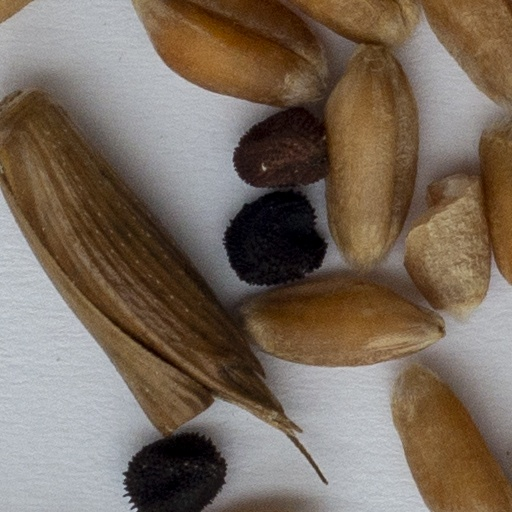Agrostemma-poly: (220, 188, 327, 290), (116, 431, 228, 511)
Peel-poly: (0, 90, 277, 429)
Wheat-grain-damaged-poly: (401, 167, 493, 319)
